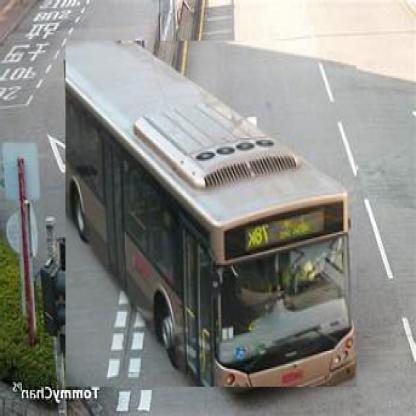bus: (65, 42, 358, 390)
